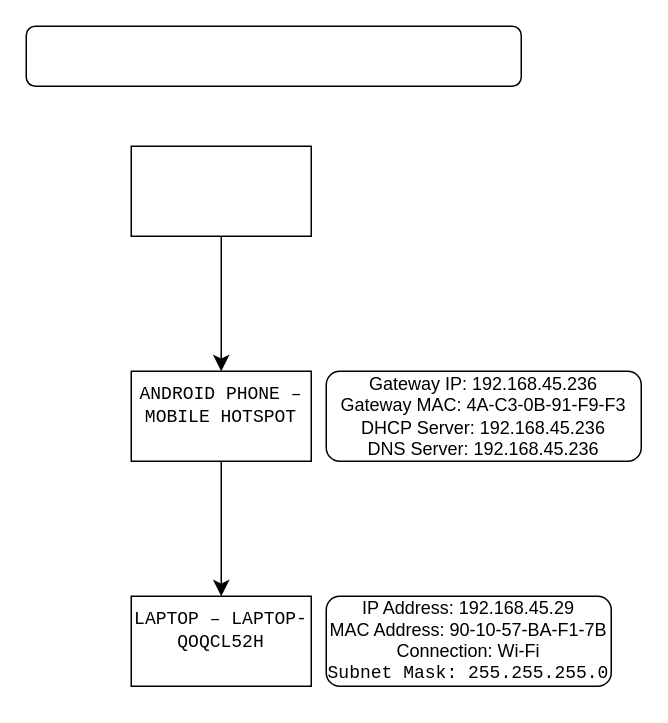
Some shapes in this 668 by 723 pixel diagram are drawn without their labels. The box of each missing label's shape, as (x1, y1, x2, y2) in pixels:
INTERNET: (130, 145, 311, 236)
MY ANDROID HOTSPOT NETWORK TOPOLOGY: (25, 25, 521, 86)
